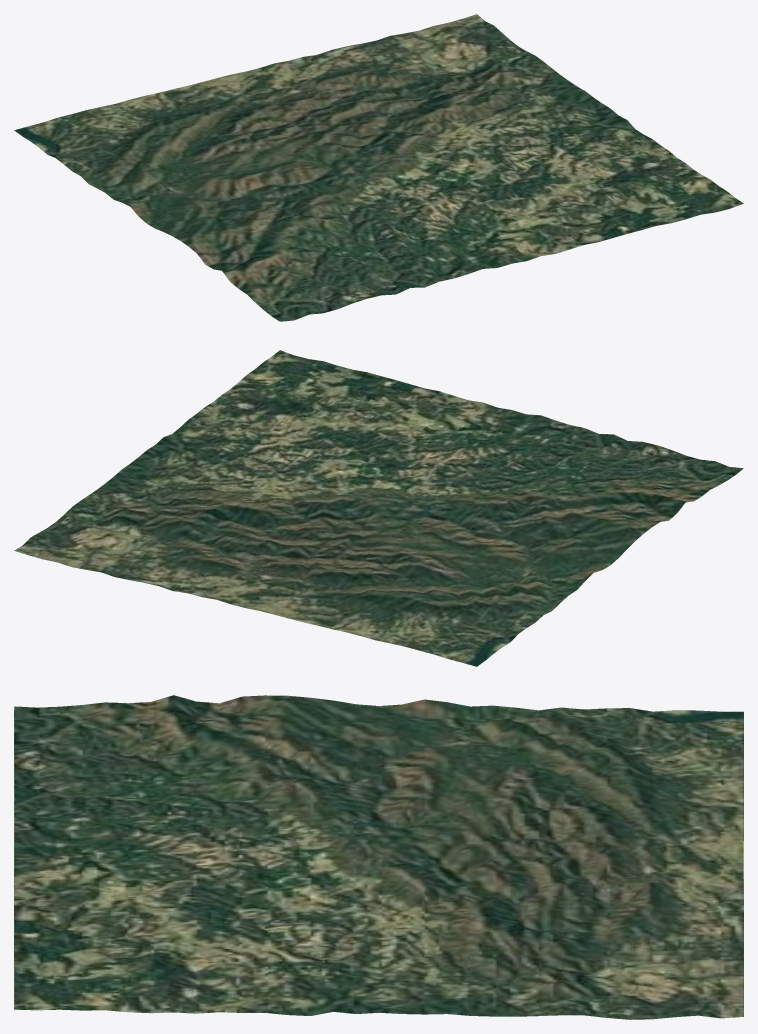
The picture shows the model from 3 angles, top to bottom: view 1: azimuth 30°, elevation 25°; view 2: azimuth 150°, elevation 25°; view 3: azimuth 270°, elevation 25°; orthographic projection. The views are drawn at different scales.
Size of the model in its own units: 15673 by 469 by 15595.
1 material, 1 textured.
